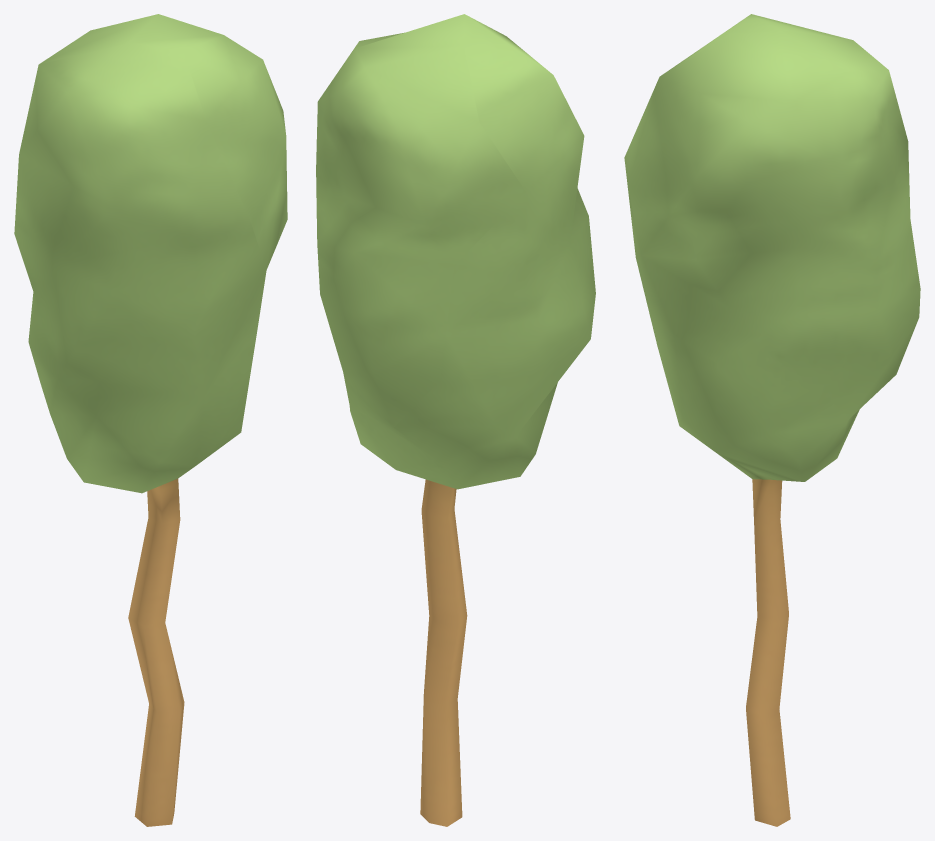
3 renders of one model, left to right at view 1: azimuth 30°, elevation 25°; view 2: azimuth 150°, elevation 25°; view 3: azimuth 270°, elevation 25°, orthographic.
Visible parts, largest first — view 1: Laza.001; view 2: Laza.001; view 3: Laza.001.
Boxes of the visible parts, <box> form: Laza.001: <box>14,14,287,826</box>; Laza.001: <box>316,14,595,826</box>; Laza.001: <box>624,14,920,826</box>.
Size of the model in its own units: 2.33 by 7.38 by 2.54.
Materials: 1 (1 with a texture image).
